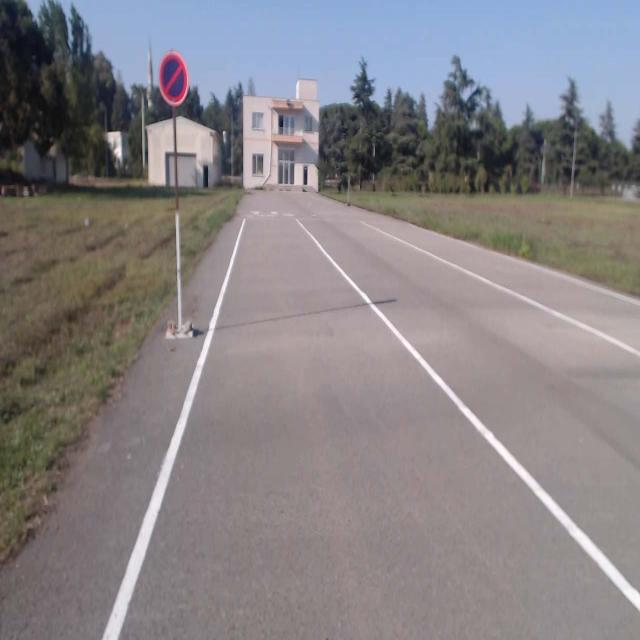parkyasak: (160, 52, 188, 106)
